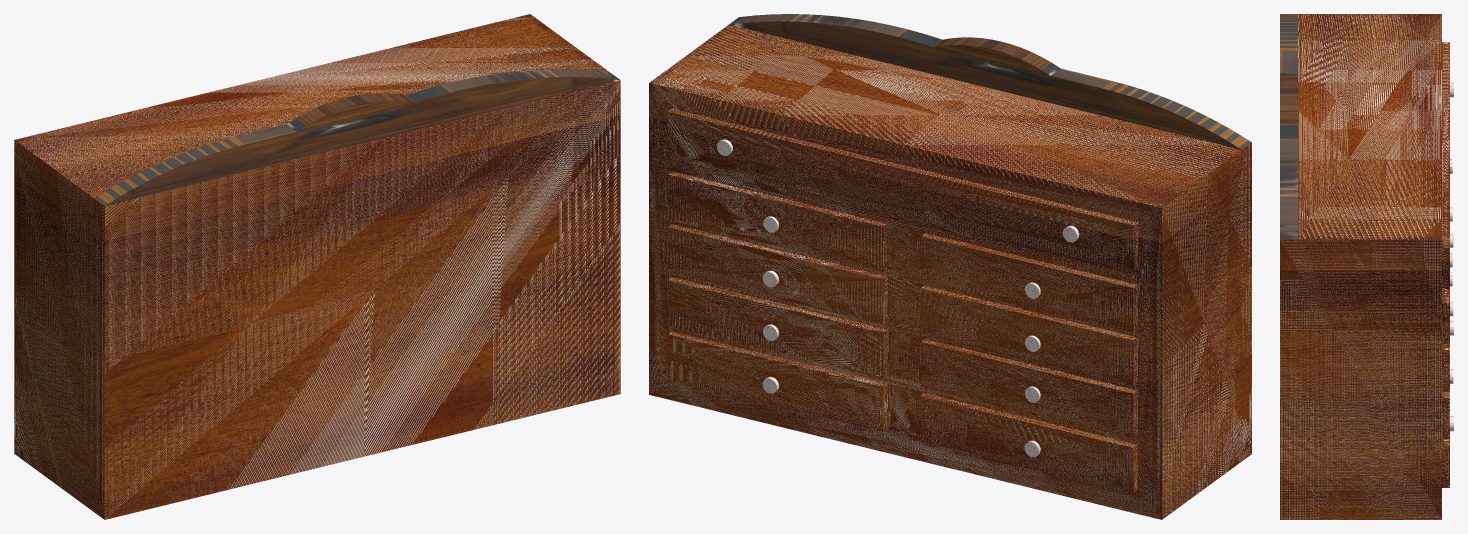
3 views of the same model, side by side, from view 1: azimuth 30°, elevation 25°; view 2: azimuth 150°, elevation 25°; view 3: azimuth 270°, elevation 25° (orthographic). The views are drawn at different scales.
Visible parts, largest first — view 1: mesh1_mesh1-geometry; view 2: mesh1_mesh1-geometry; view 3: mesh1_mesh1-geometry.
Part boxes in pixels (x1,y1,x2,y2): mesh1_mesh1-geometry: (14, 14, 620, 519); mesh1_mesh1-geometry: (649, 14, 1251, 519); mesh1_mesh1-geometry: (1280, 14, 1453, 519).
Size of the model in its own units: 0.807 by 0.5286 by 0.2632.
